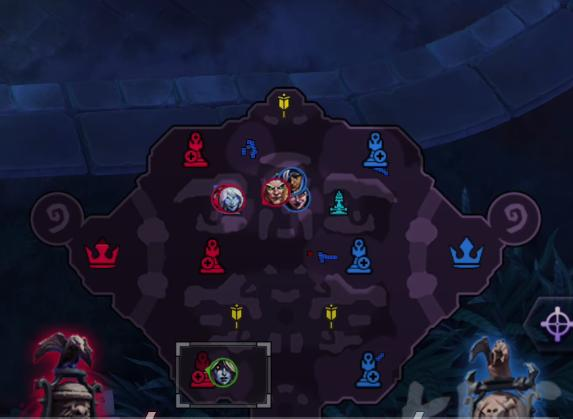blue player: (207, 357, 239, 389), (278, 167, 307, 197), (287, 189, 308, 211), (286, 169, 304, 194)
red player: (211, 183, 246, 215), (262, 177, 291, 208)
